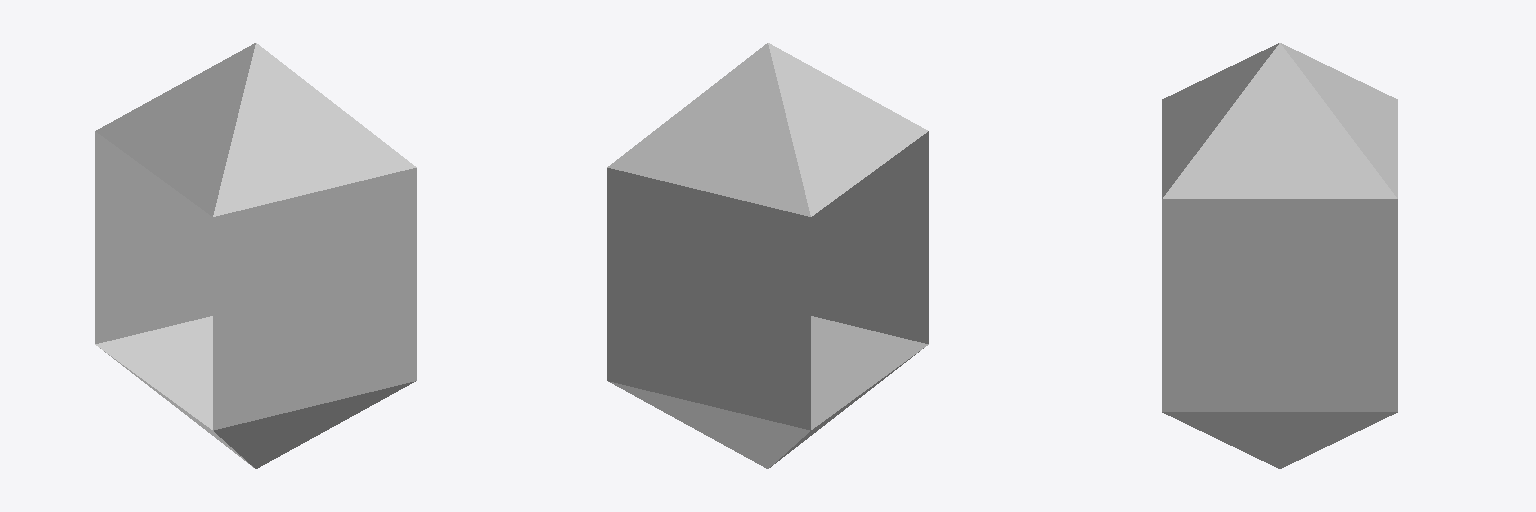
File: dode.obj
3 renders of one model, left to right at view 1: azimuth 30°, elevation 25°; view 2: azimuth 150°, elevation 25°; view 3: azimuth 270°, elevation 25°, orthographic.
Bounding box in the file's own units: 2 × 4 × 2.